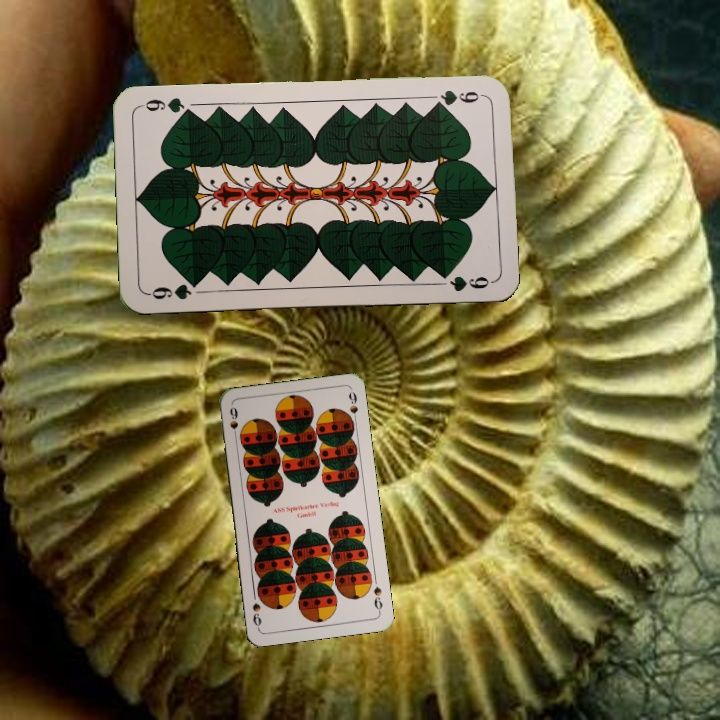G9: (144, 277, 203, 302), (427, 86, 486, 109)
S9: (226, 403, 240, 443), (369, 582, 385, 615)
